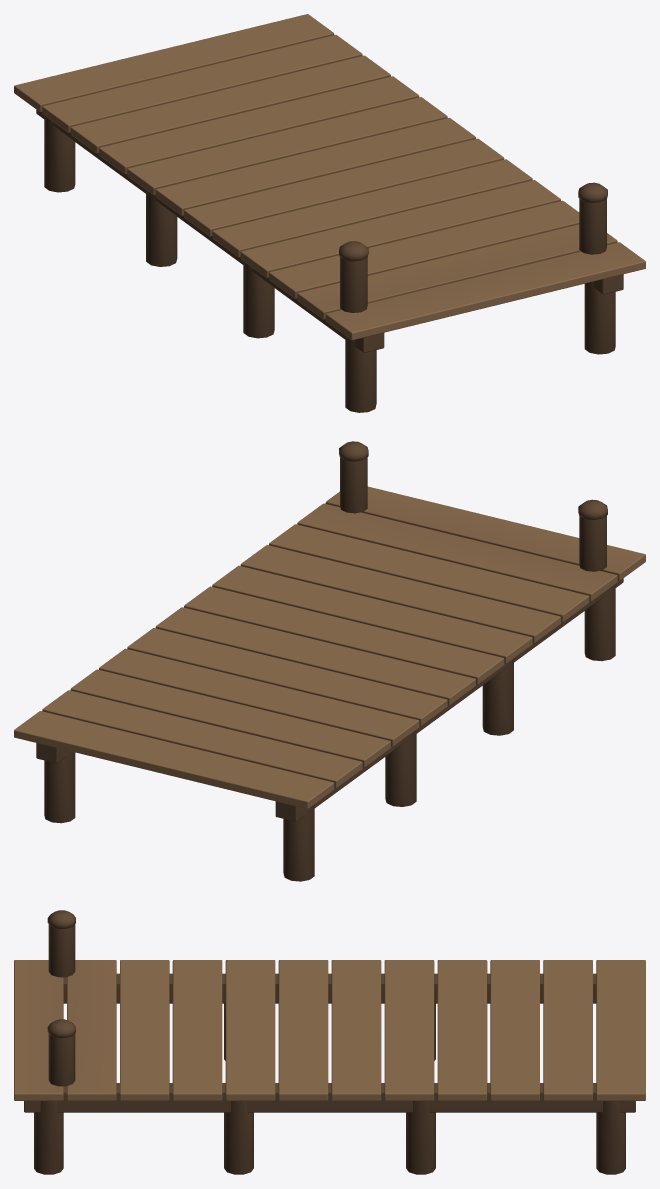
The model's file is jetty.glb.
The picture shows the model from 3 angles, top to bottom: view 1: azimuth 30°, elevation 25°; view 2: azimuth 150°, elevation 25°; view 3: azimuth 270°, elevation 25°; orthographic projection. The views are drawn at different scales.
Visible parts, largest first — view 1: jetty; view 2: jetty; view 3: jetty.
Part boxes in pixels (x1=…): jetty: x1=14, y1=14, x2=645, y2=412; jetty: x1=14, y1=441, x2=645, y2=881; jetty: x1=14, y1=910, x2=645, y2=1174.
Bounding box in the file's own units: 1.92 × 0.984 × 3.82.
